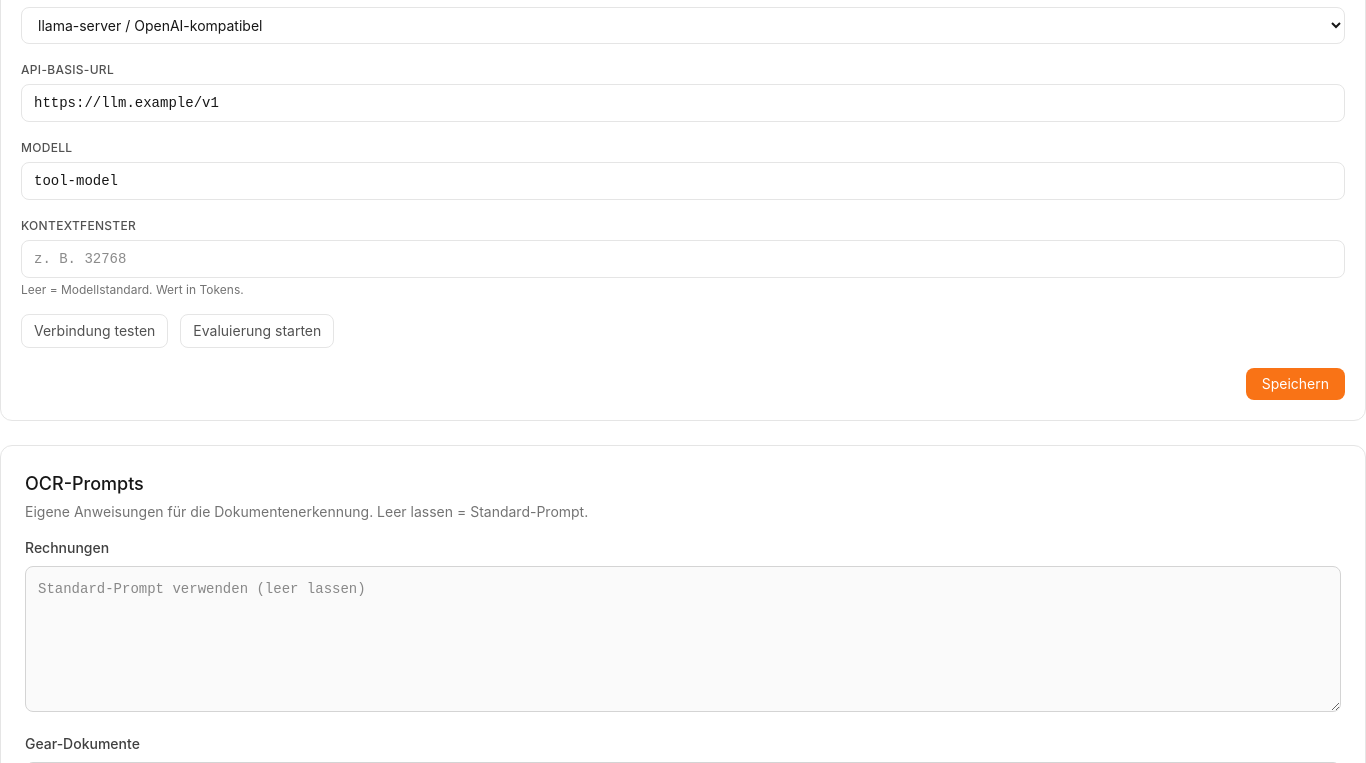
Test: LLMSettingsPage › surfaces LiteLLM regeneration warnings returned by save
The width and height of the screenshot is (1366, 763).
(page scrolled)
Click the button "Speichern": point(1295, 384) 1246,368 -> 1345,400
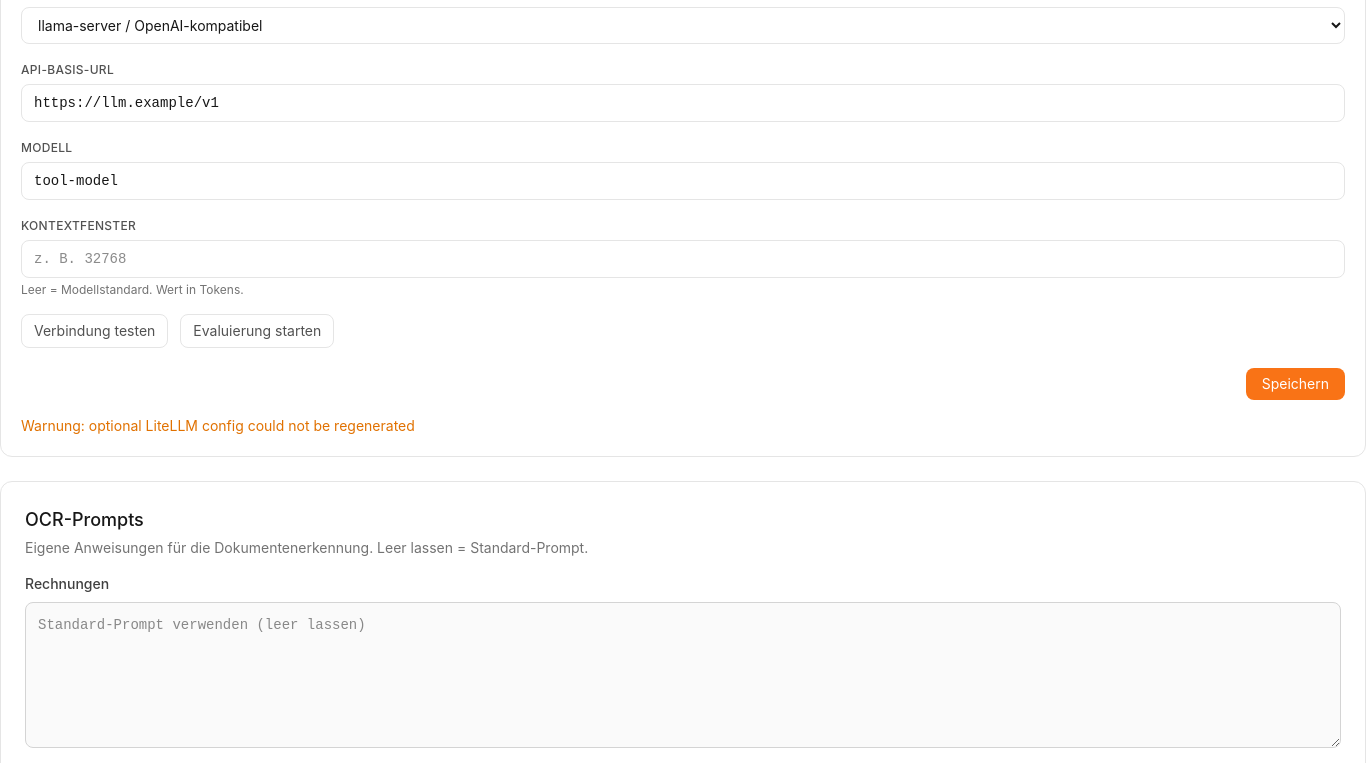
Expected: the message shows "optional LiteLLM config could not be regenerated", 21,417 -> 415,434
